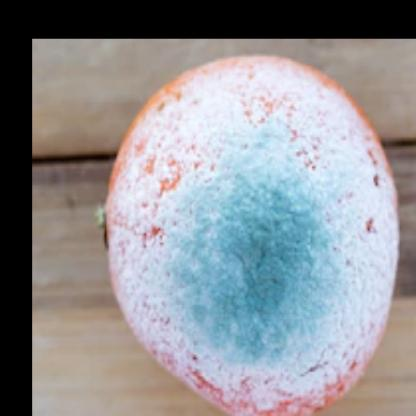rotten: (103, 54, 401, 416)
